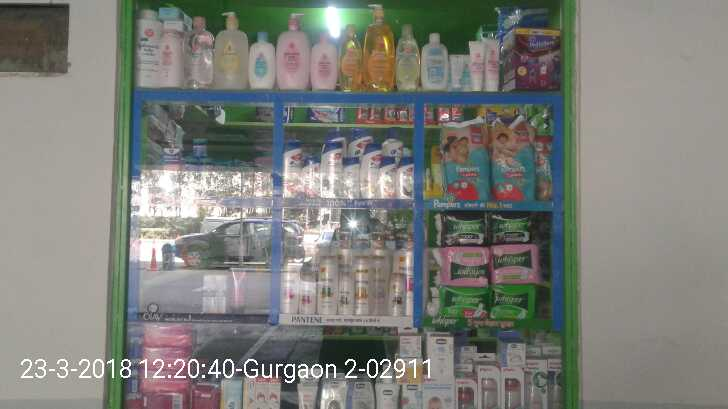vicks: (156, 134, 218, 167)
